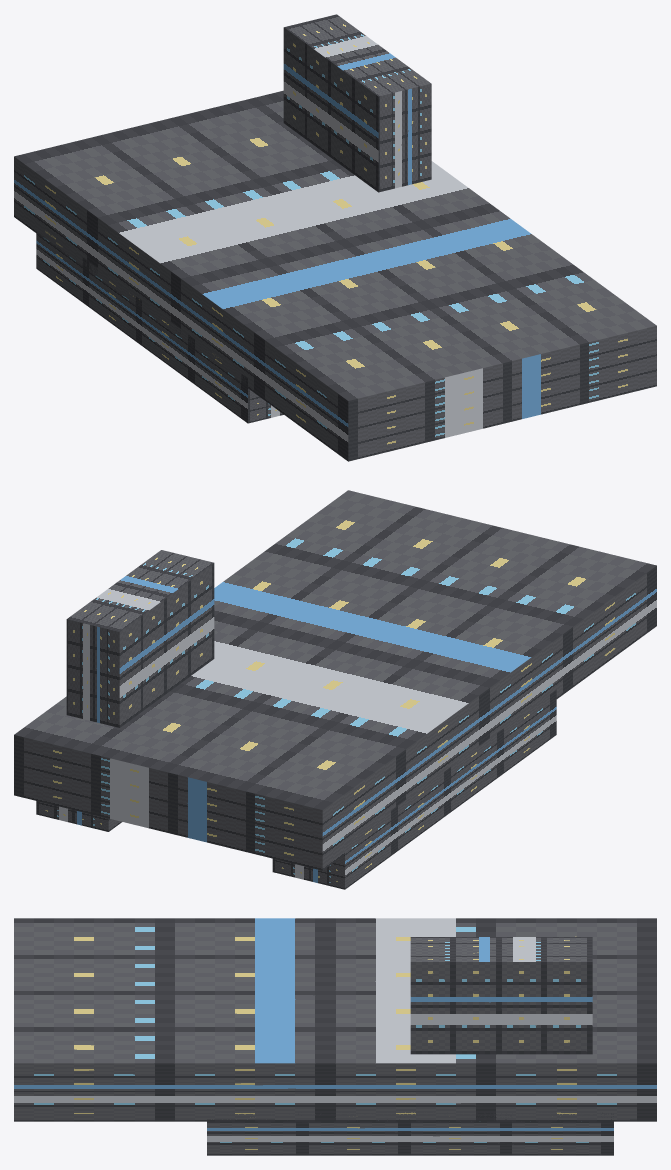
3 views of the same model, one above another, from view 1: azimuth 30°, elevation 25°; view 2: azimuth 150°, elevation 25°; view 3: azimuth 270°, elevation 25° (orthographic). The views are drawn at different scales.
Visible parts, largest first — view 1: hull; view 2: hull; view 3: hull.
Boxes of the visible parts, bbox=[...] form: hull: bbox=[14, 14, 656, 461]; hull: bbox=[14, 490, 656, 889]; hull: bbox=[14, 918, 656, 1155].
Bounding box in the file's own units: 2.34 × 1.39 × 4.38.
1 material, 1 textured.
